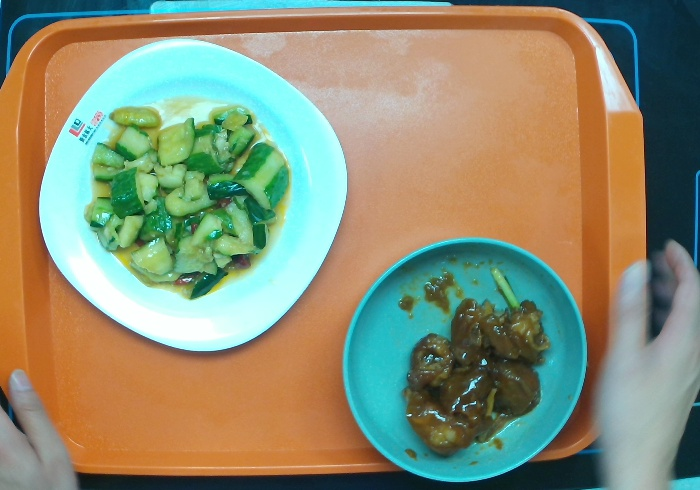ZNLD-Qing_Hua_Yuan_Wan: (339, 234, 590, 487)
ZNLD-Yuan_Jiao_Pan: (37, 36, 350, 359)
